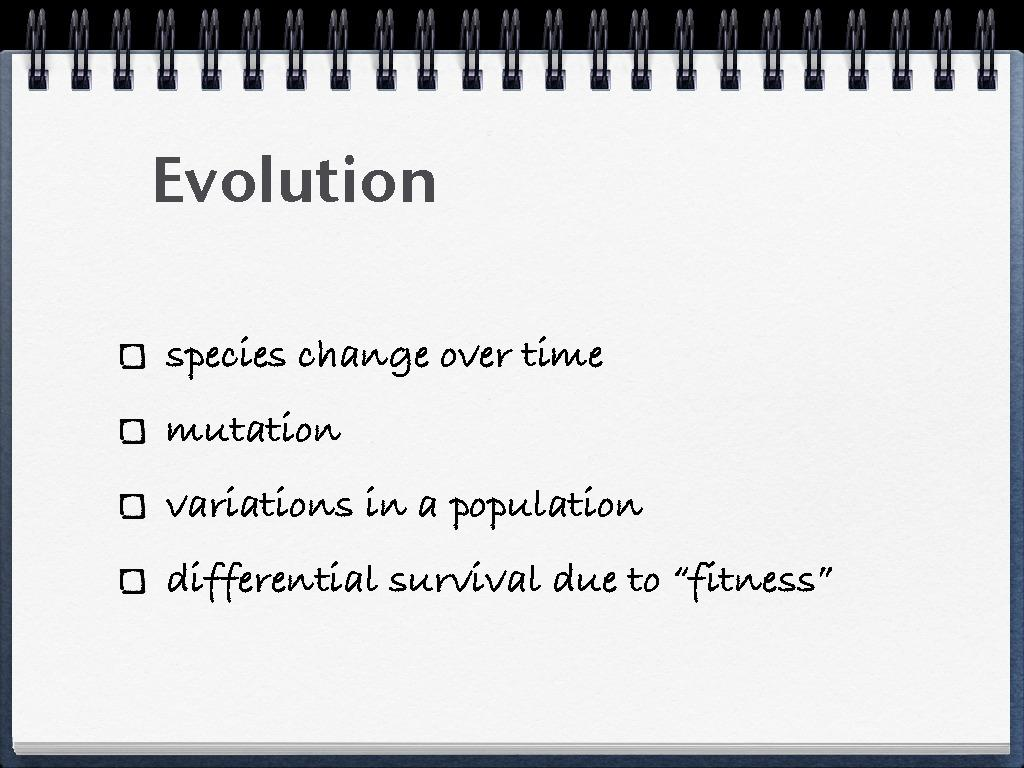paragraph: (104, 308, 872, 621)
title: (140, 143, 452, 218)
